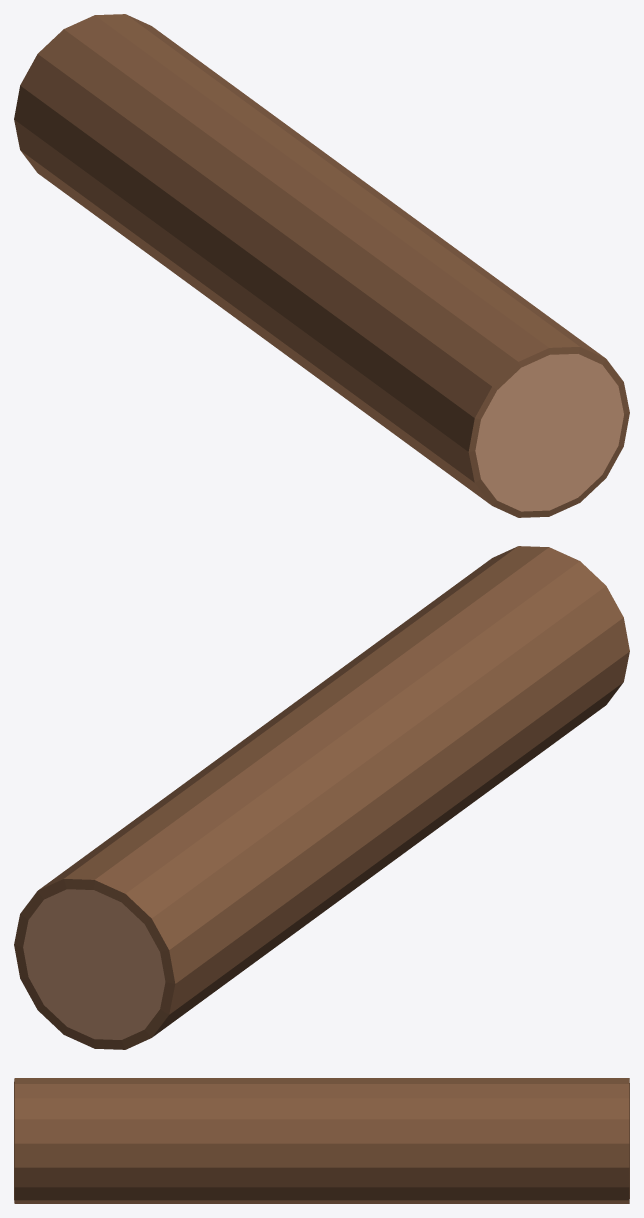
Rendered from Log.fbx.
3 views of the same model, one above another, from view 1: azimuth 30°, elevation 25°; view 2: azimuth 150°, elevation 25°; view 3: azimuth 270°, elevation 25° (orthographic). The views are drawn at different scales.
Visible parts, largest first — view 1: Log; view 2: Log; view 3: Log.
Boxes of the visible parts, x1,y1,x2,y2 form: Log: (14, 14, 629, 517); Log: (14, 546, 629, 1049); Log: (14, 1078, 629, 1203).
Size of the model in its own units: 2 by 2 by 9.78.
